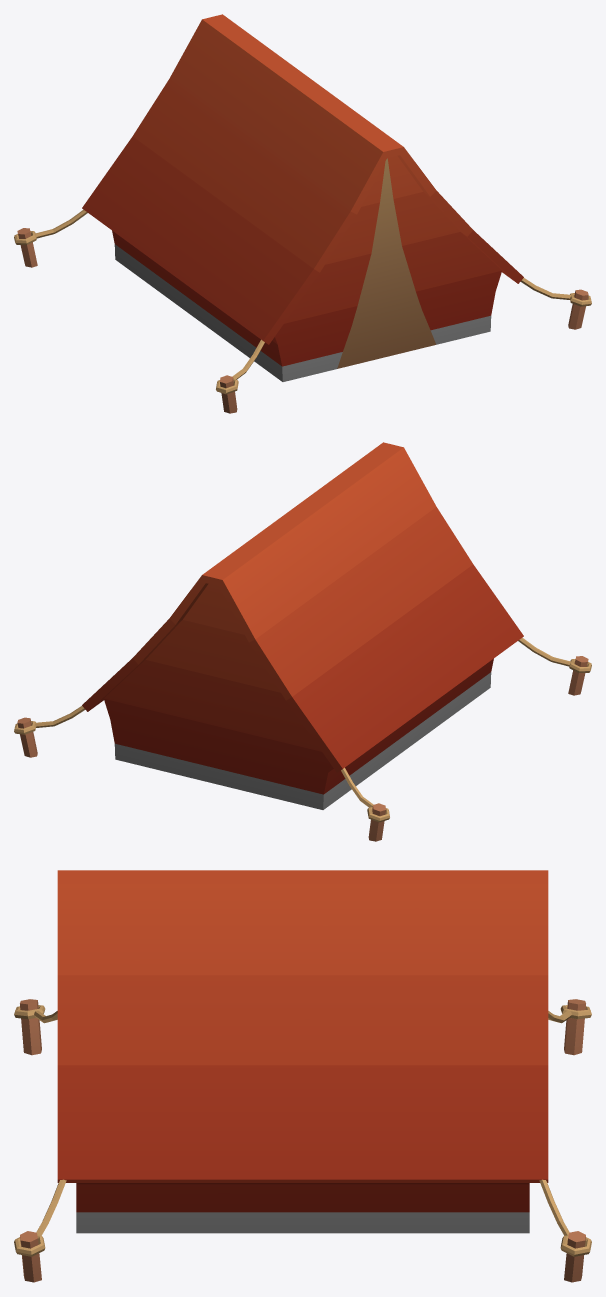
The model's file is camping tent red.fbx.
3 views of the same model, one above another, from view 1: azimuth 30°, elevation 25°; view 2: azimuth 150°, elevation 25°; view 3: azimuth 270°, elevation 25° (orthographic). The views are drawn at different scales.
Visible parts, largest first — view 1: camping tent red; view 2: camping tent red; view 3: camping tent red.
Boxes of the visible parts, left/top/right/bottom form: camping tent red: left=14, top=14, right=591, bottom=413; camping tent red: left=14, top=442, right=591, bottom=841; camping tent red: left=14, top=870, right=591, bottom=1282.
Size of the model in its own units: 474 by 257 by 467.
